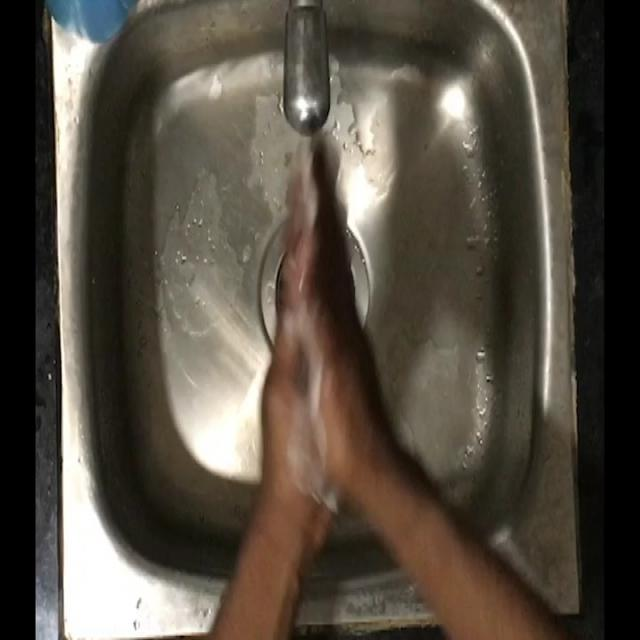step_1: (244, 118, 384, 470)
